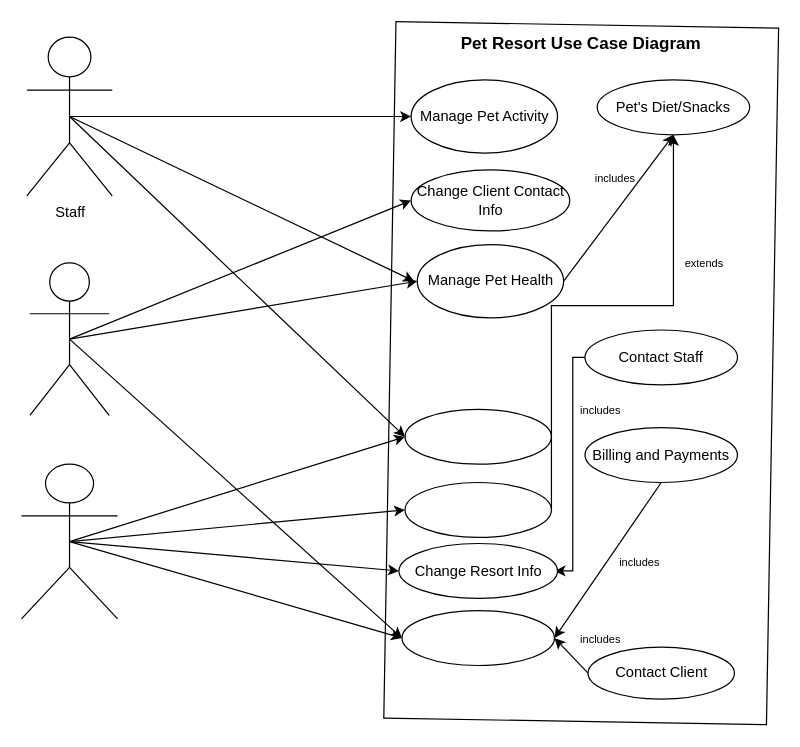
Image size: 800x747. Some labels were removed from this diagram. The centre of each missing label's shape, as x and y in pixels:
"Admin" goes at (x=69, y=541).
"Bookings and Reservations" goes at (x=477, y=637).
"Client" goes at (x=69, y=338).
"Manage Donations" goes at (x=477, y=509).
"Manage Inventory and Supplies" goes at (x=477, y=436).
